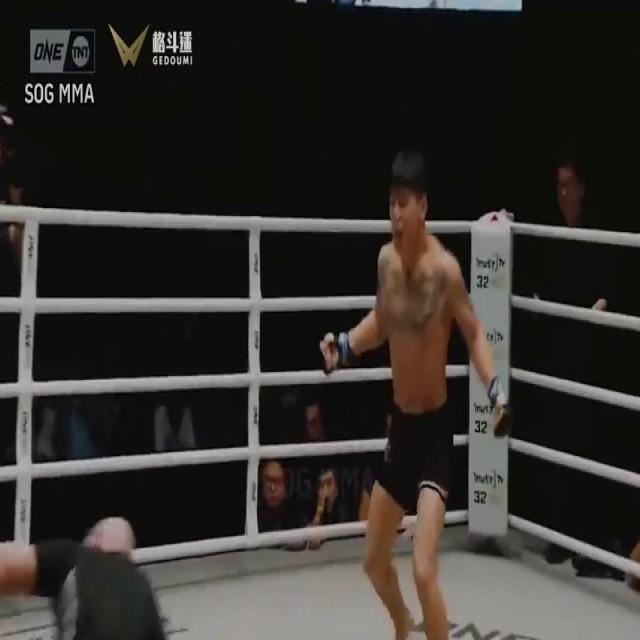non-fight: (316, 144, 513, 640), (533, 150, 626, 581)
